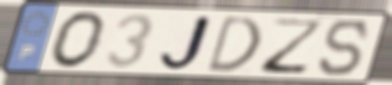3: (106, 12, 158, 71)
D: (203, 14, 264, 75)
J: (156, 13, 216, 74)
O: (48, 10, 110, 71)
S: (316, 17, 372, 78)
Z: (259, 17, 328, 77)
